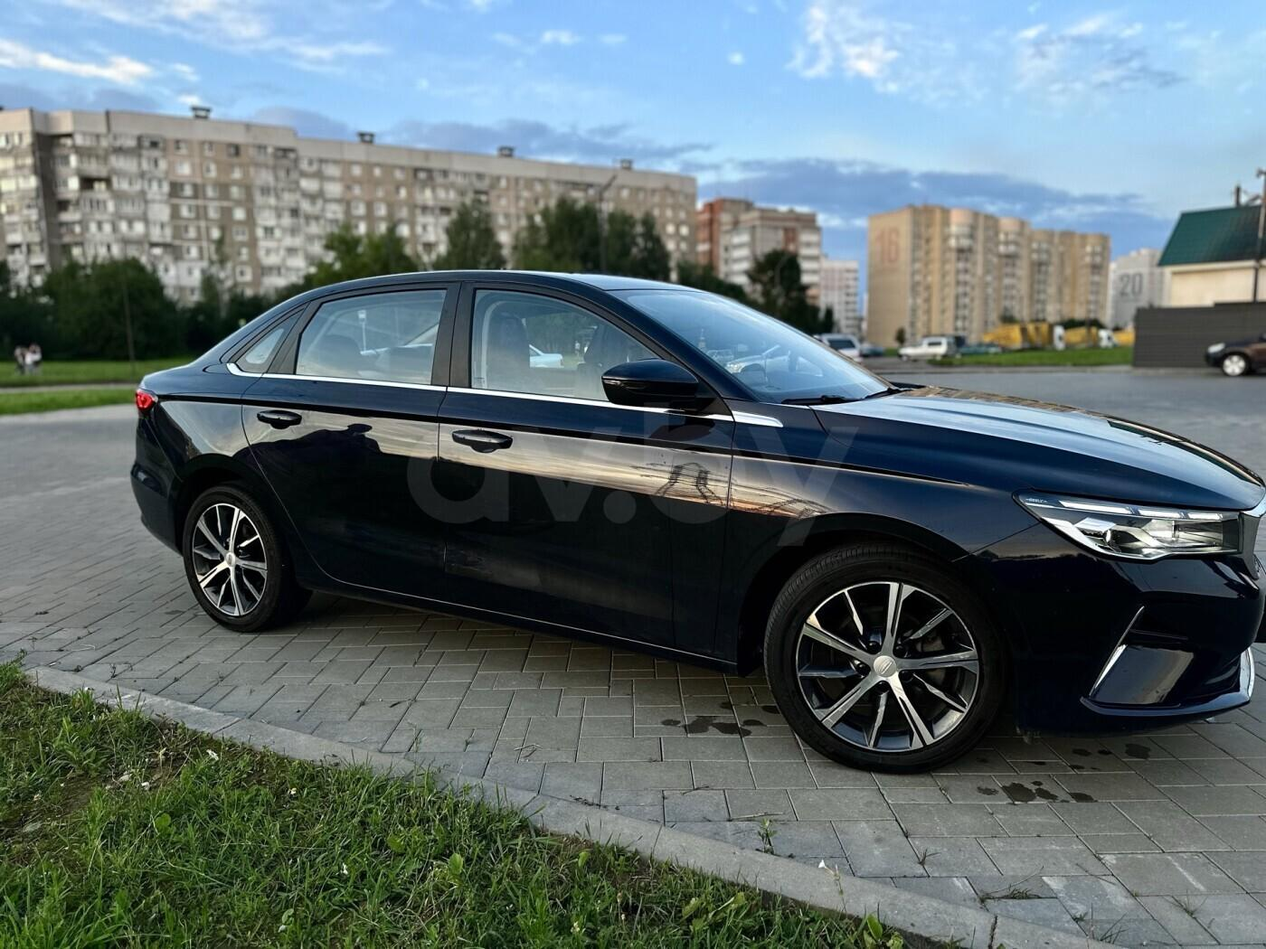Emgrand_2021: (122, 255, 1266, 796)
